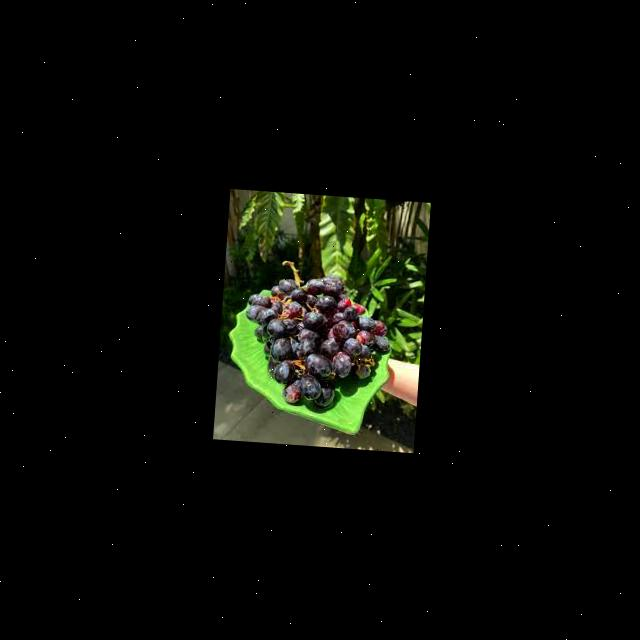grape: (238, 266, 392, 411)
